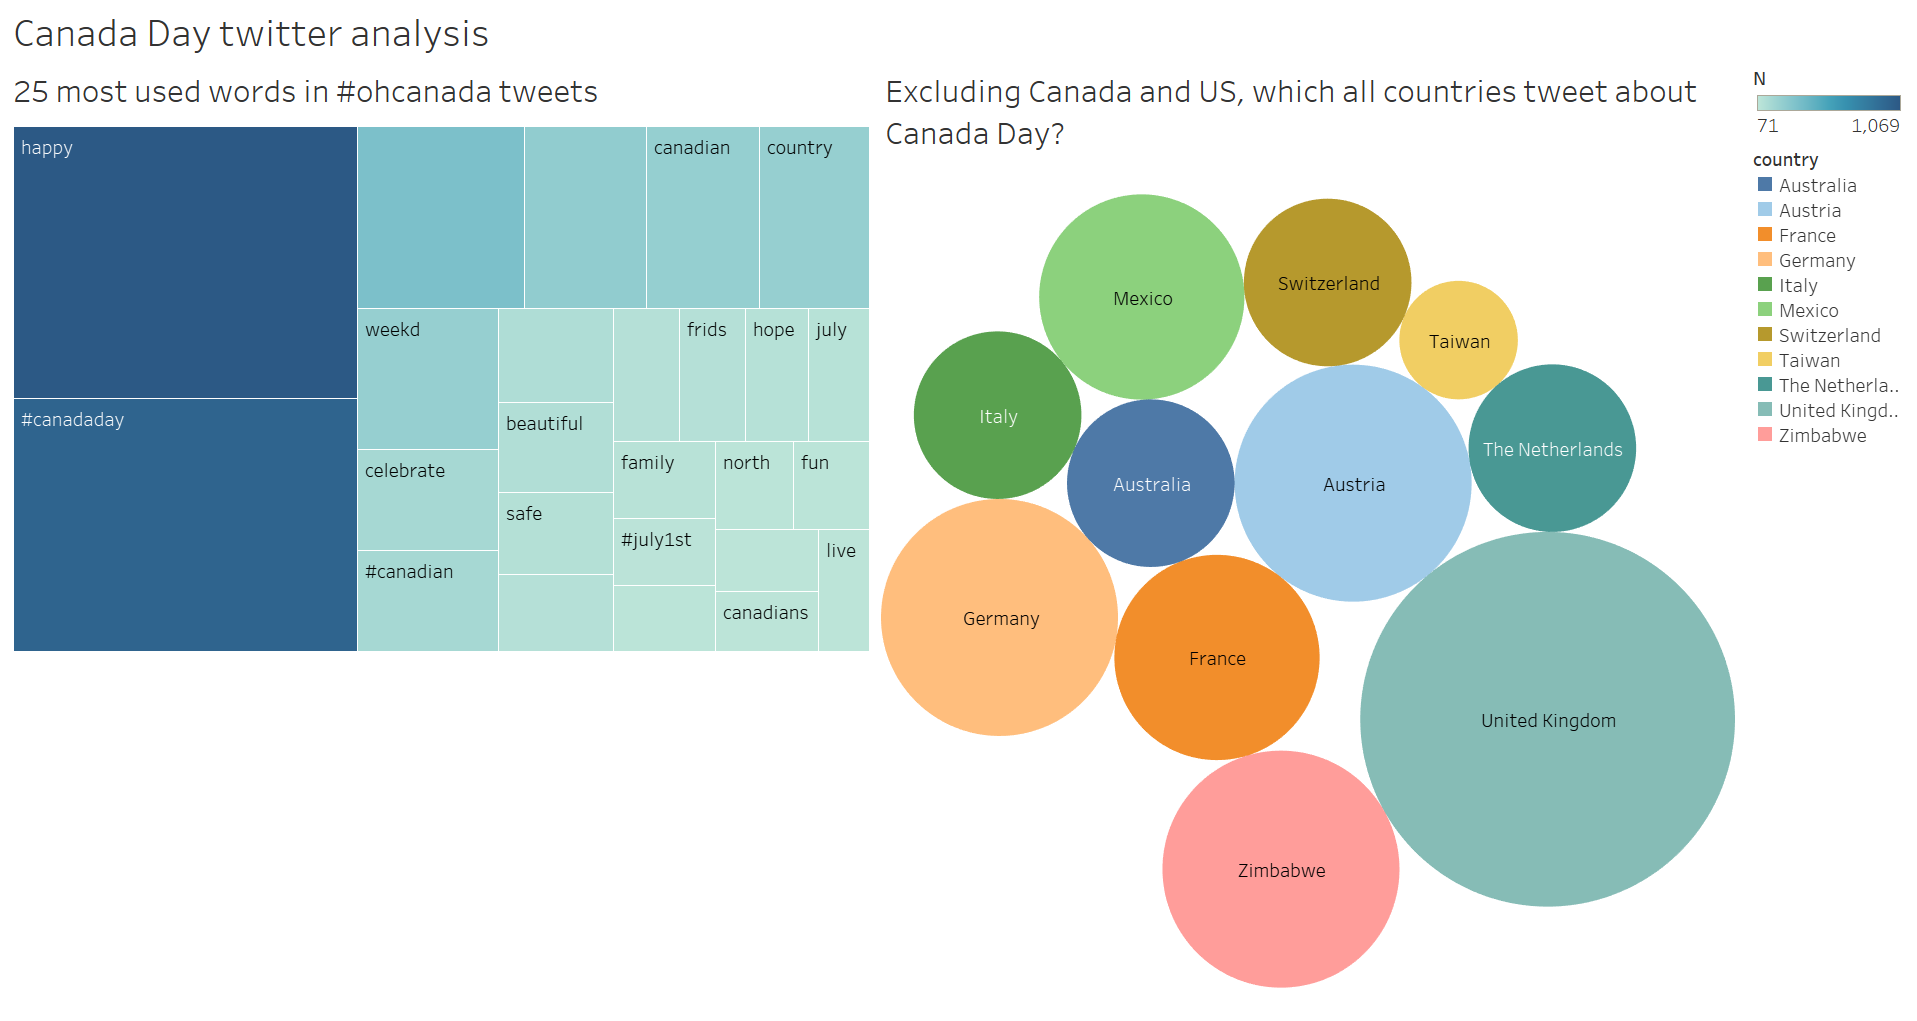

What the dashboard file says about the page in this screenshot:
{"tool":"tableau","page":{"name":"Canada Day twitter analysis","canvas":[1000,1000],"units":"permille","ordinal":0},"visuals":[{"type":"title","box":[5,9.8,990,70.9]},{"type":"worksheet","title":"25 most used words in #ohcanada tweets","mark":"Automatic","box":[5,80.7,445,909.5]},{"type":"worksheet","title":"Excluding Canada and US, which all countries tweet about Canada Day?","mark":"Circle","box":[450,80.7,445.3,909.5]},{"type":"legend","title":"25 most used words in #ohcanada tweets","param":"[federated.175clr216porhe18yoav20x6pqa4].[sum:n:qk]","box":[895.3,80.7,99.8,99]},{"type":"legend","title":"Excluding Canada and US, which all countries tweet about Canada Day?","param":"[federated.1hduxx5124snnb1fnb7wy1r3kjio].[none:country:nk]","box":[895.3,179.7,99.8,377.8]}]}

Visuals, with their boxes on the dashboard's canvas, which has no fixed pixel size, in thousandths of its width and height (x1, y1, x2, y2). These are canvas units, not pixel positions in the 1917x1021 screenshot, which may show the page scaled, cropped or inside an application window:
title: locate(5, 10, 995, 81)
"25 most used words in #ohcanada tweets" worksheet: locate(5, 81, 450, 990)
"Excluding Canada and US, which all countries tweet about Canada Day?" worksheet (Circle marks): locate(450, 81, 895, 990)
"25 most used words in #ohcanada tweets" legend: locate(895, 81, 995, 180)
"Excluding Canada and US, which all countries tweet about Canada Day?" legend: locate(895, 180, 995, 558)
